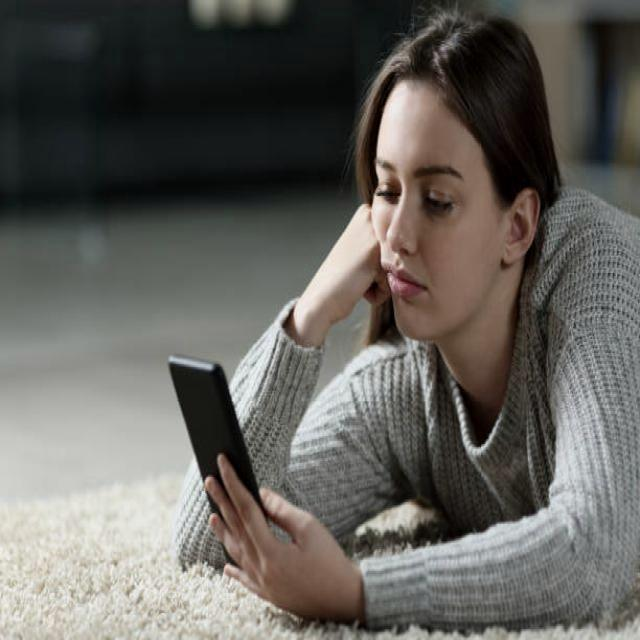Phone use: (127, 15, 586, 542), (639, 202, 640, 206)
